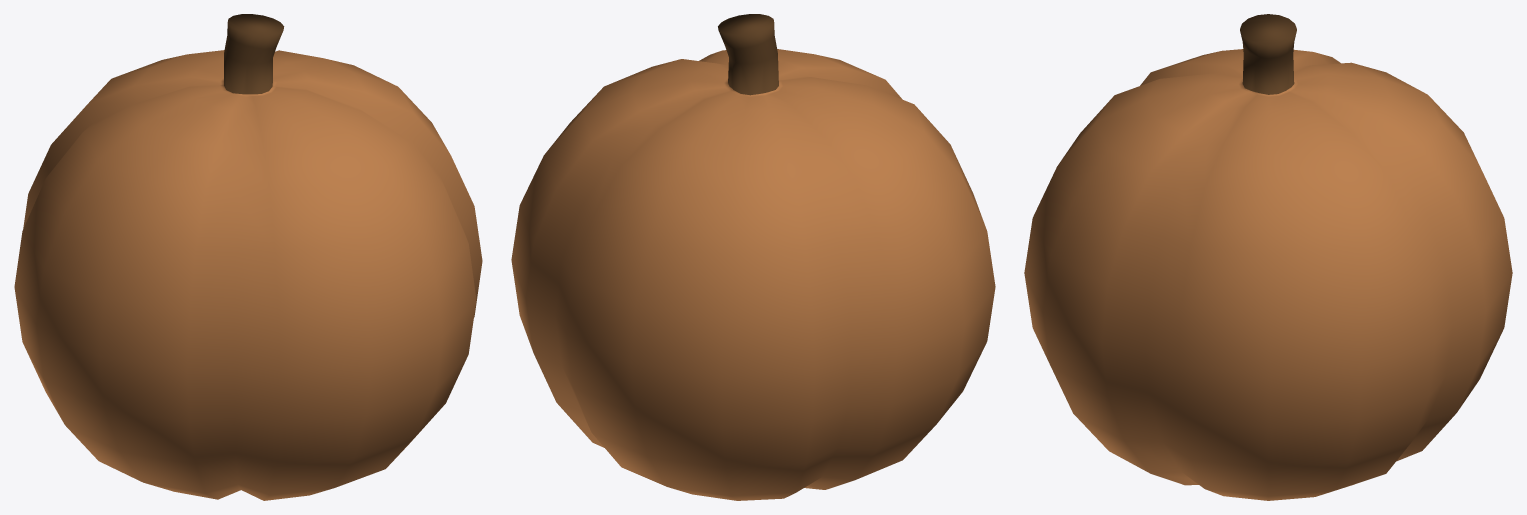
Rendered from Pumpkin.glb.
3 views of the same model, side by side, from view 1: azimuth 30°, elevation 25°; view 2: azimuth 150°, elevation 25°; view 3: azimuth 270°, elevation 25° (orthographic).
Parts seen in each view (by area): view 1: Pumpkin; view 2: Pumpkin; view 3: Pumpkin.
Boxes of the visible parts, <box> form: Pumpkin: <box>14,14,482,500</box>; Pumpkin: <box>511,14,995,500</box>; Pumpkin: <box>1024,14,1512,500</box>.
Bounding box in the file's own units: 0.4263 × 0.427 × 0.4263.
